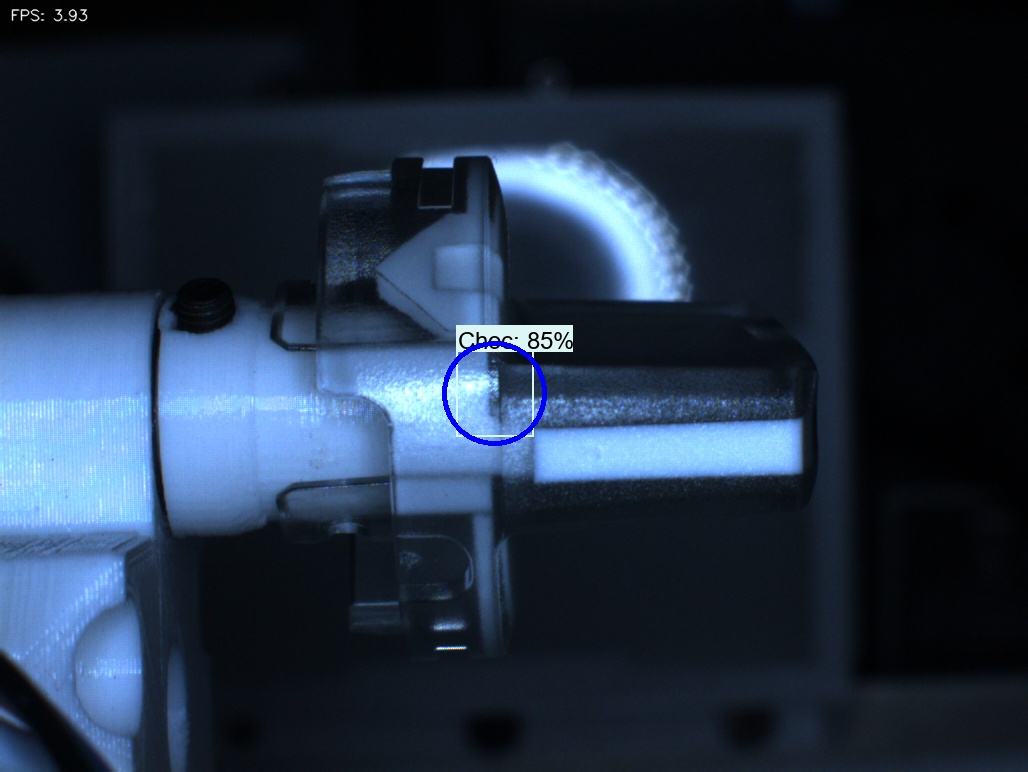DentOk: (342, 224, 418, 324)
